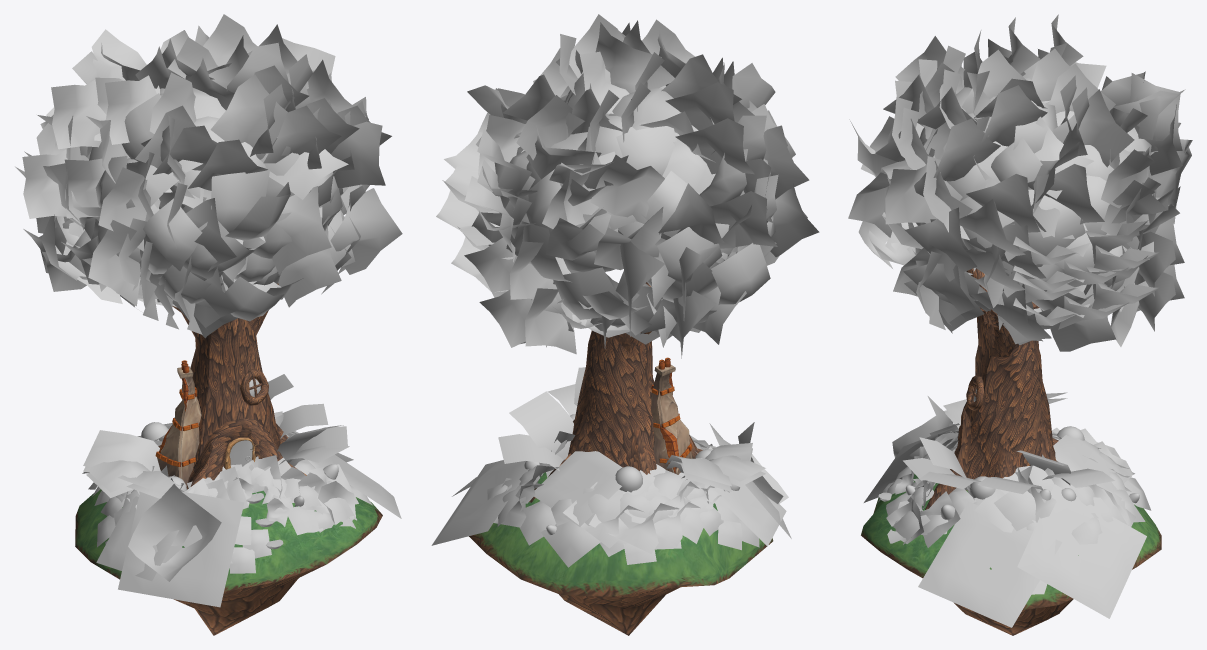
The model's file is TREE.fbx.
The picture shows the model from 3 angles, left to right: view 1: azimuth 30°, elevation 25°; view 2: azimuth 150°, elevation 25°; view 3: azimuth 270°, elevation 25°; orthographic projection.
Parts seen in each view (by area): view 1: Plane178, Plane168, Plane175, Plane124, plynth, tree, Plane179, Plane176, Plane013, Box001, Plane153, Plane132 (+10 smaller); view 2: Plane168, Plane175, Plane179, plynth, Plane178, tree, Plane124, Plane155, Plane151, Plane135, Plane130, Plane177 (+7 smaller); view 3: Plane178, Plane179, Plane130, Plane175, Plane168, tree, plynth, Plane124, Plane155, Plane153, Plane151, Plane132 (+6 smaller).
Part boxes in pixels (x1,y1,x2,y2): Plane178: (135, 14, 402, 307); Plane168: (15, 30, 267, 329); Plane175: (41, 63, 344, 321); Plane124: (96, 423, 244, 607); plynth: (75, 489, 382, 635); tree: (158, 283, 306, 489); Plane179: (91, 29, 367, 273); Plane176: (157, 198, 238, 338); Plane013: (83, 430, 187, 493); Box001: (157, 377, 201, 486); Plane153: (94, 431, 356, 563); Plane132: (277, 425, 349, 467); Plane168: (464, 54, 819, 358); Plane175: (509, 73, 775, 337); Plane179: (436, 22, 661, 354); plynth: (469, 472, 773, 635); Plane178: (467, 14, 694, 160); tree: (529, 282, 702, 502); Plane124: (534, 422, 791, 546); Plane155: (493, 431, 721, 553); Plane151: (487, 483, 759, 567); Plane135: (498, 391, 573, 477); Plane130: (431, 460, 528, 545); Plane177: (597, 238, 716, 347); Plane178: (848, 48, 1134, 333); Plane179: (959, 71, 1185, 351); Plane130: (918, 484, 1146, 627); Plane175: (849, 56, 1180, 329); Plane168: (895, 14, 1192, 250); tree: (925, 268, 1058, 509); plynth: (861, 474, 1161, 635); Plane124: (864, 396, 1131, 502); Plane155: (974, 427, 1135, 532); Plane153: (886, 451, 1128, 544); Plane151: (887, 477, 1151, 594); Plane132: (903, 437, 981, 499).
Size of the model in its own units: 291 by 477 by 255.
